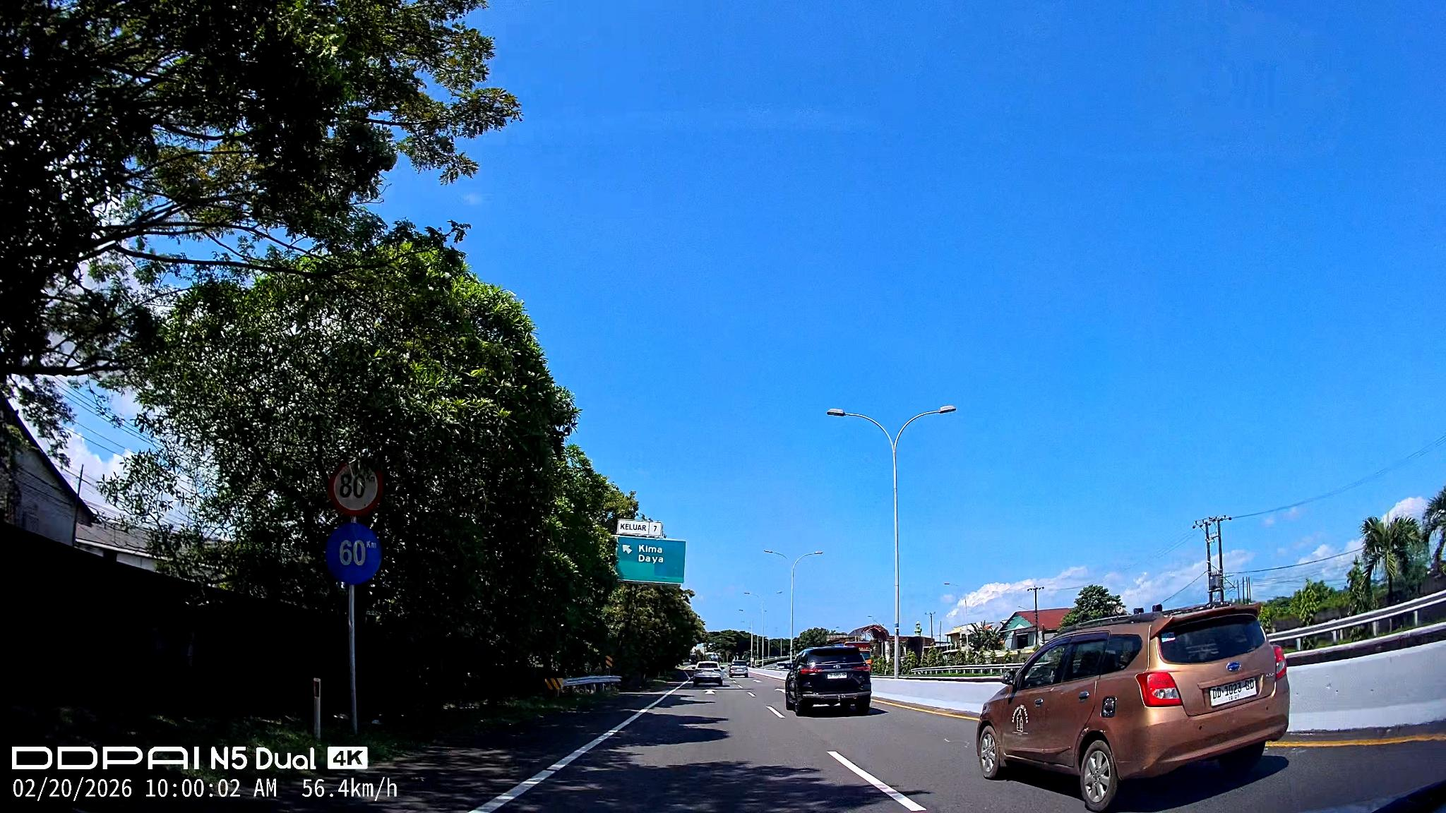rambu_teks: (615, 535, 686, 585)
